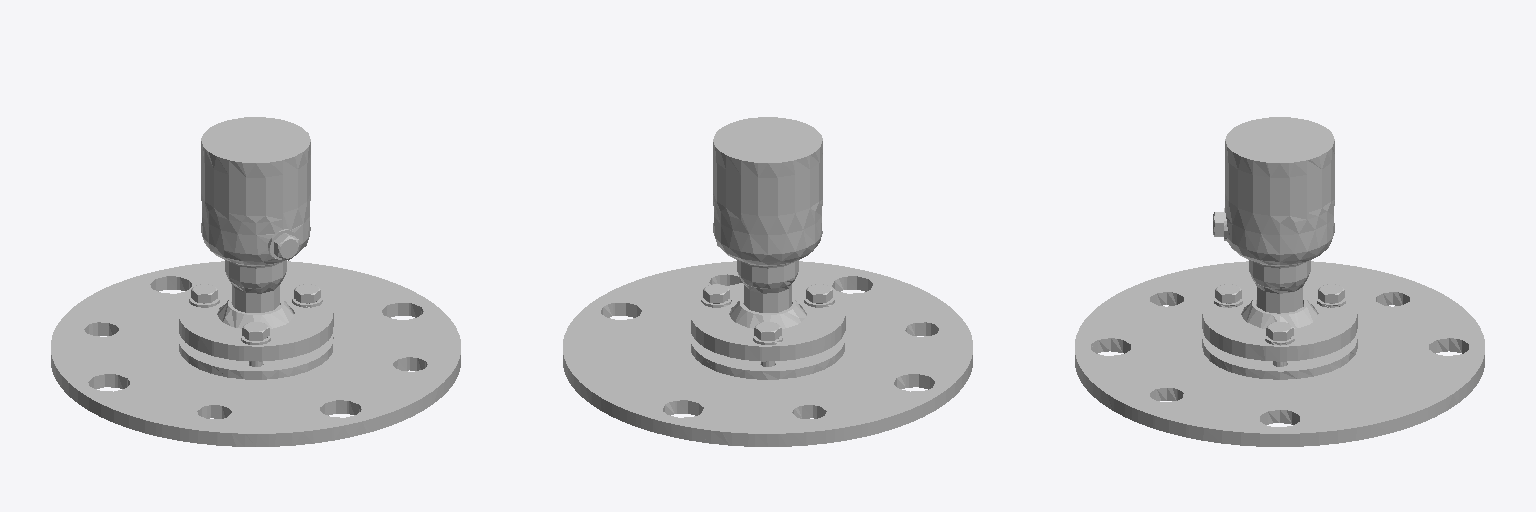
Rendered from flange_14-b7.obj.
The picture shows the model from 3 angles: view 1: azimuth 30°, elevation 25°; view 2: azimuth 150°, elevation 25°; view 3: azimuth 270°, elevation 25°; orthographic projection.
Size of the model in its own units: 225 by 140 by 225.